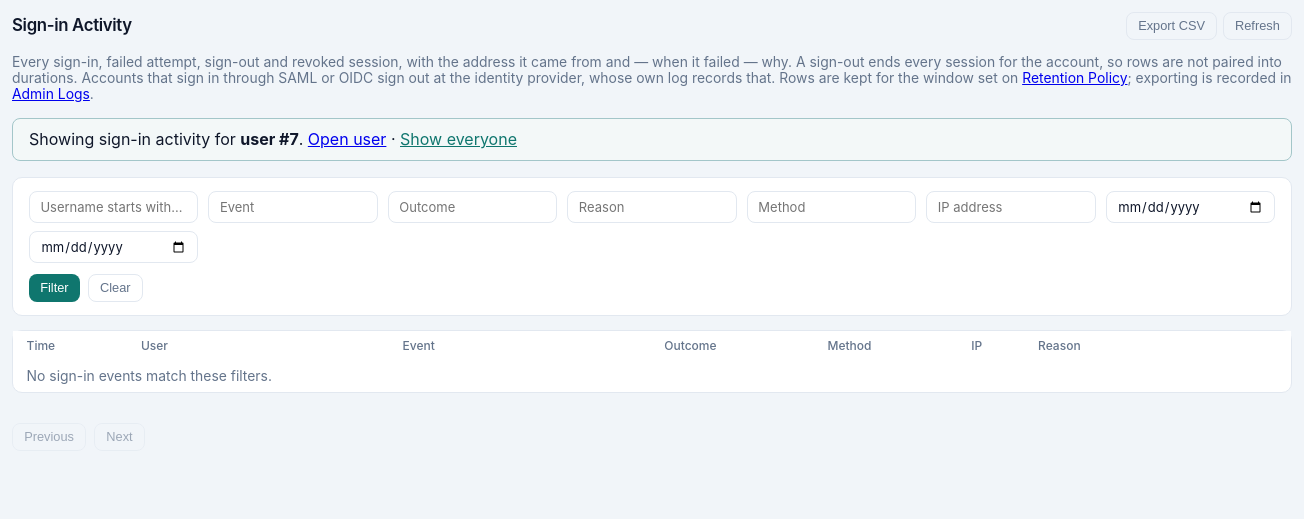
it: the page › exports with exactly the filters the list used
The width and height of the screenshot is (1304, 519).
What coordinates should you click on to do the following:
click the button "Export CSV"
I would click on:
 (1172, 26)
Its box is [1126, 12, 1217, 40].
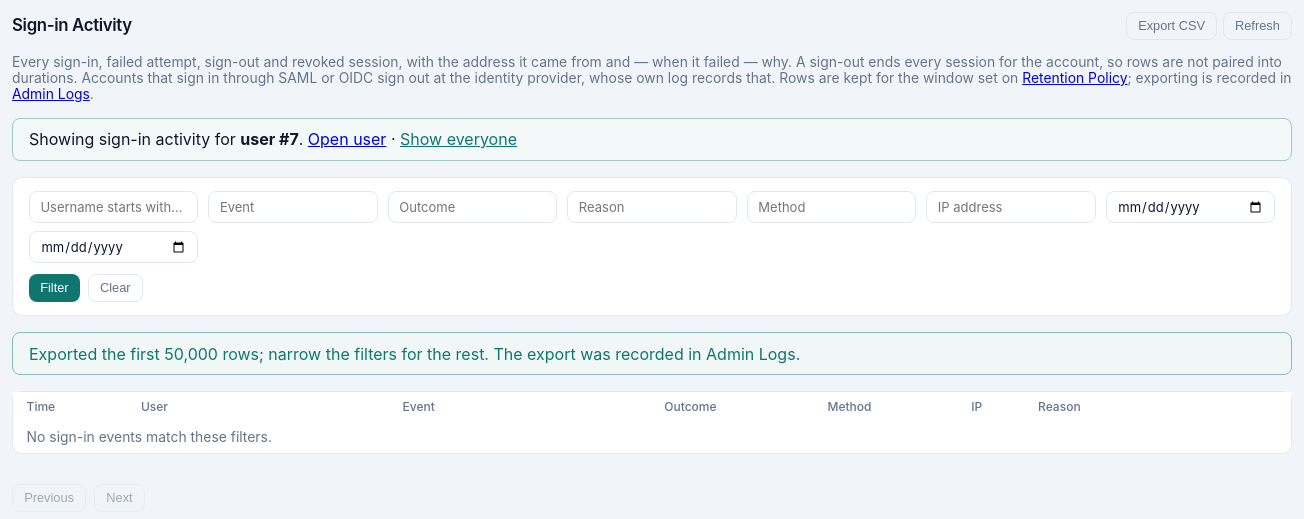
Expected: the text with class "alert-success" shows "first 50,000 rows", [29, 344, 800, 364]
